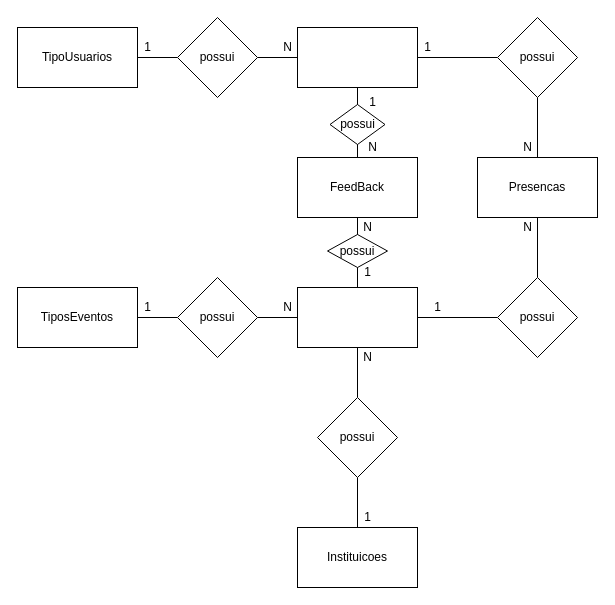
Some shapes in this 615 by 605 pixel diagram are drawn without their labels. Each missing label, with the centre of its shape:
Eventos: the point at 357,317
Usuarios: the point at 357,57
